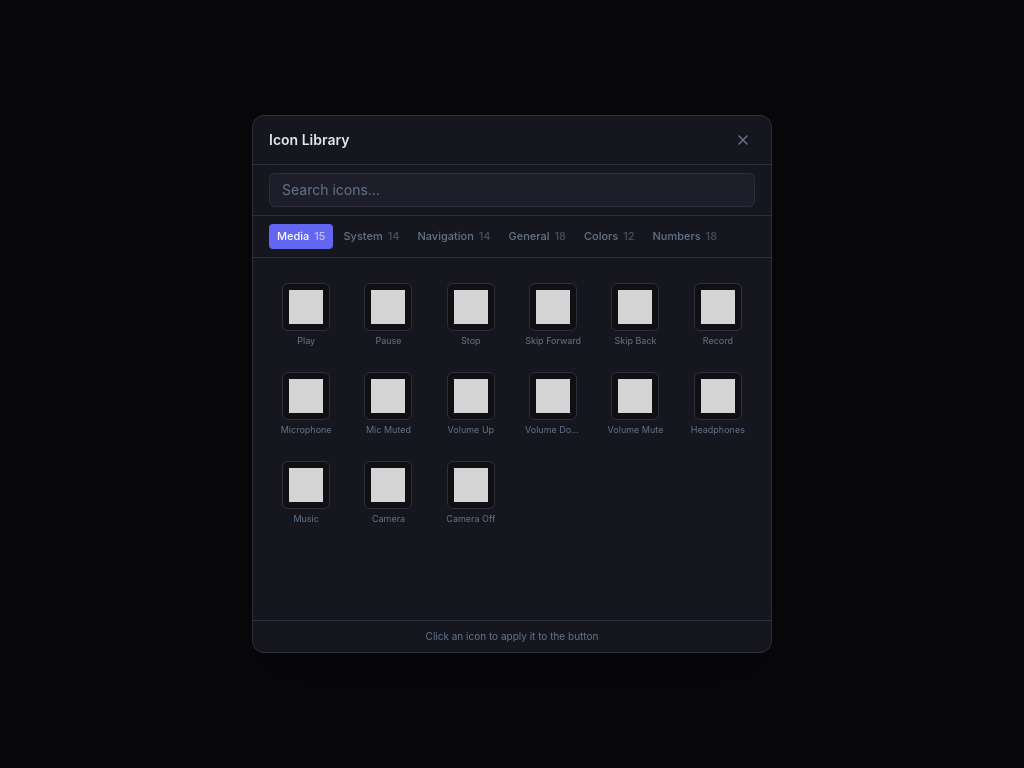
IconPicker › category tabs › should hide category tabs when search query is present
Type "test" into the field with placeholder "Search icons…". click: (512, 190)
box: [269,173,755,207]
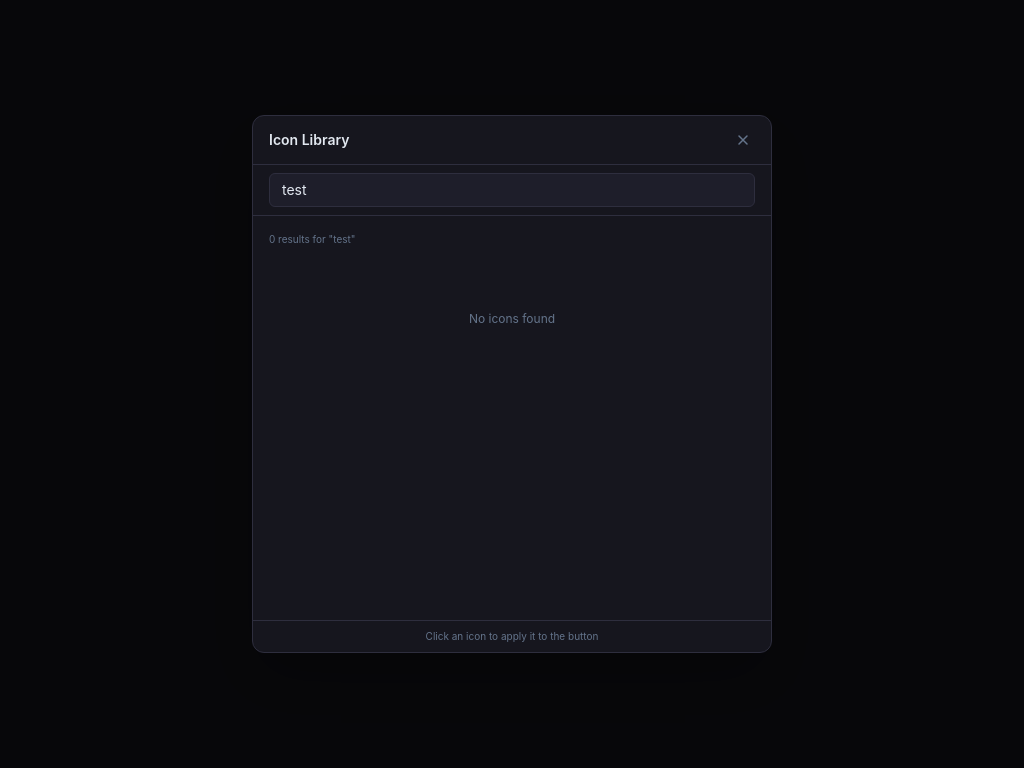
Expected: the element with class "overflow-x-auto" is gone
